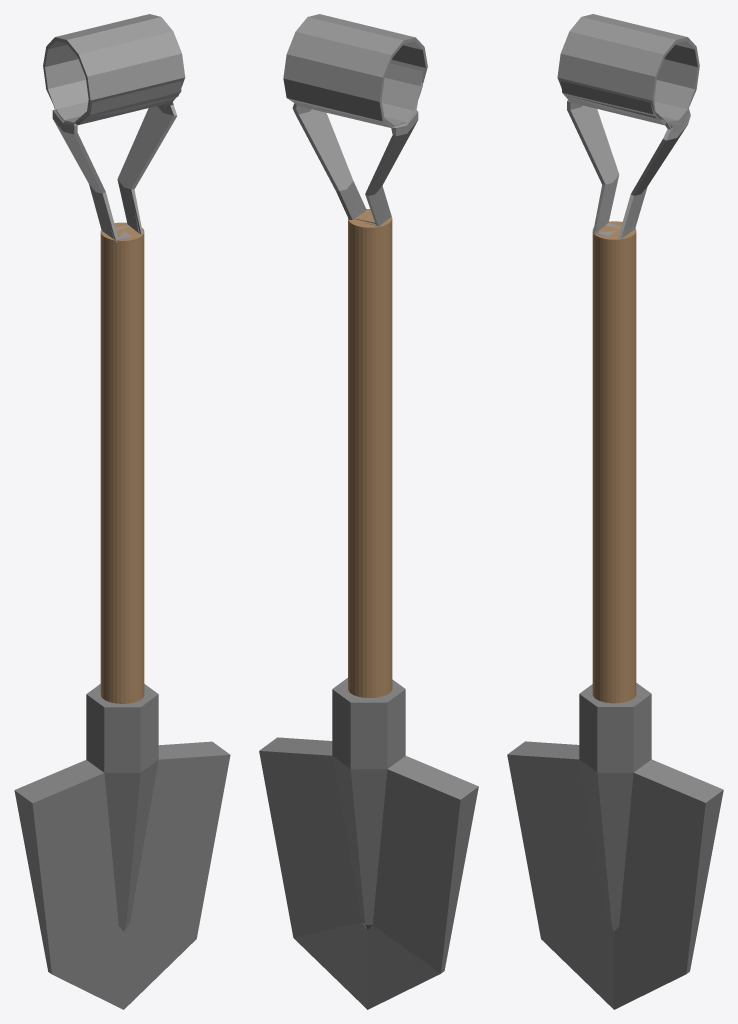
File: kurek.fbx
The picture shows the model from 3 angles, left to right: view 1: azimuth 30°, elevation 25°; view 2: azimuth 150°, elevation 25°; view 3: azimuth 330°, elevation 25°; orthographic projection.
Parts seen in each view (by area): view 1: Circle; view 2: Circle; view 3: Circle.
Part boxes in pixels (bbox=[...]): Circle: bbox=[14, 14, 230, 1009]; Circle: bbox=[259, 14, 478, 1009]; Circle: bbox=[507, 14, 723, 1009].
Bounding box in the file's own units: 371 × 1738 × 171.
